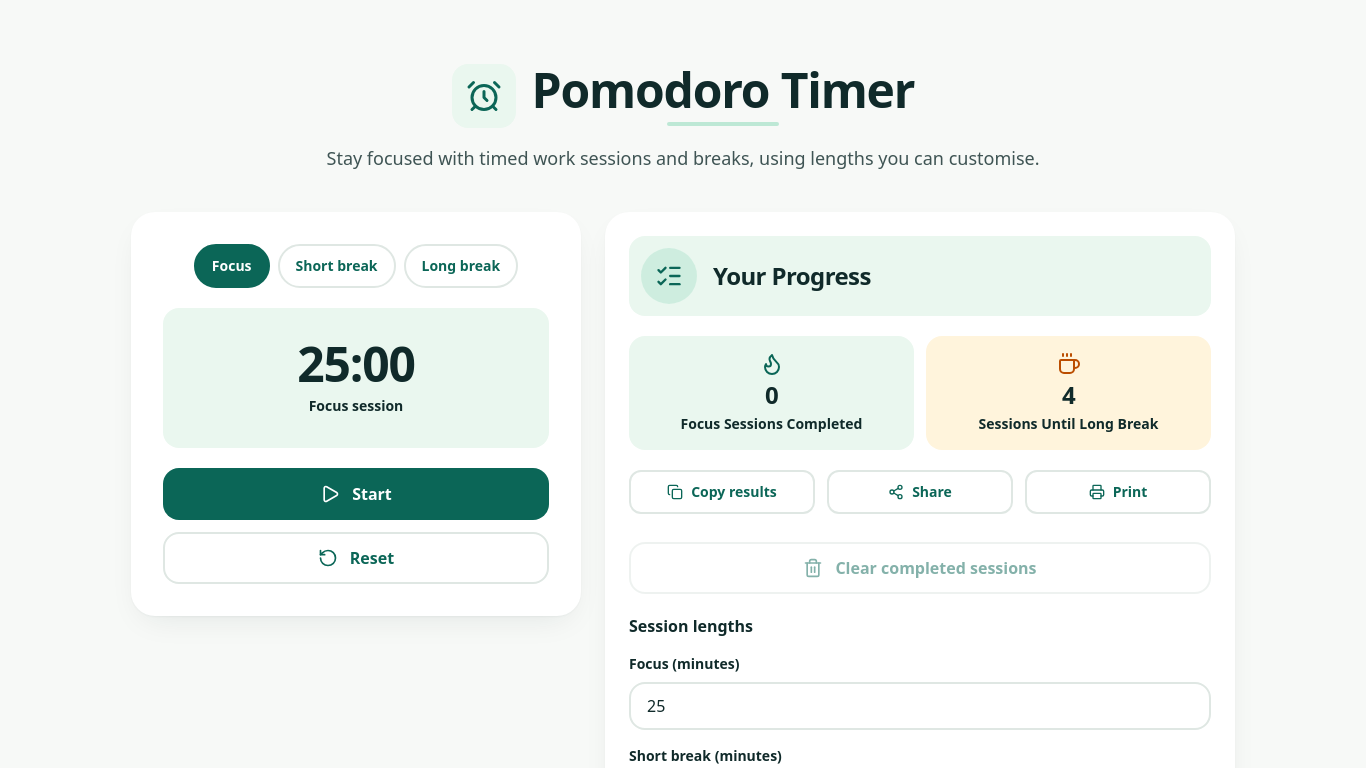
Test case: Pomodoro Timer › counts a finished focus session and moves to a short break, without starting it
The image size is (1366, 768).
Click the button "Start": (356, 494) x1=163 y1=468 x2=549 y2=520
Wait 1561000 ms
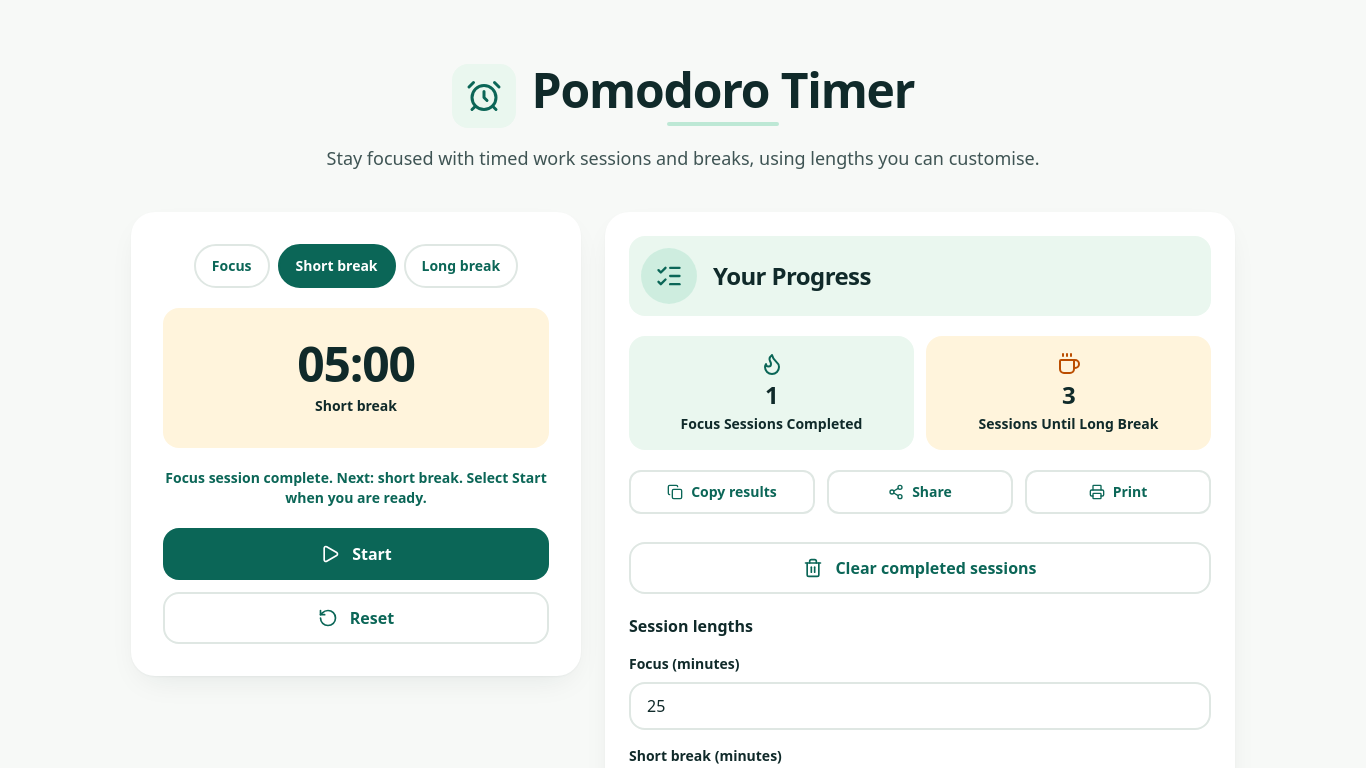
Expected: the button "Start" is shown, x1=163 y1=528 x2=549 y2=580
Now the message "Focus session complete. Next: short break. Select Start when you are ready." is shown, box x1=163 y1=468 x2=549 y2=508
